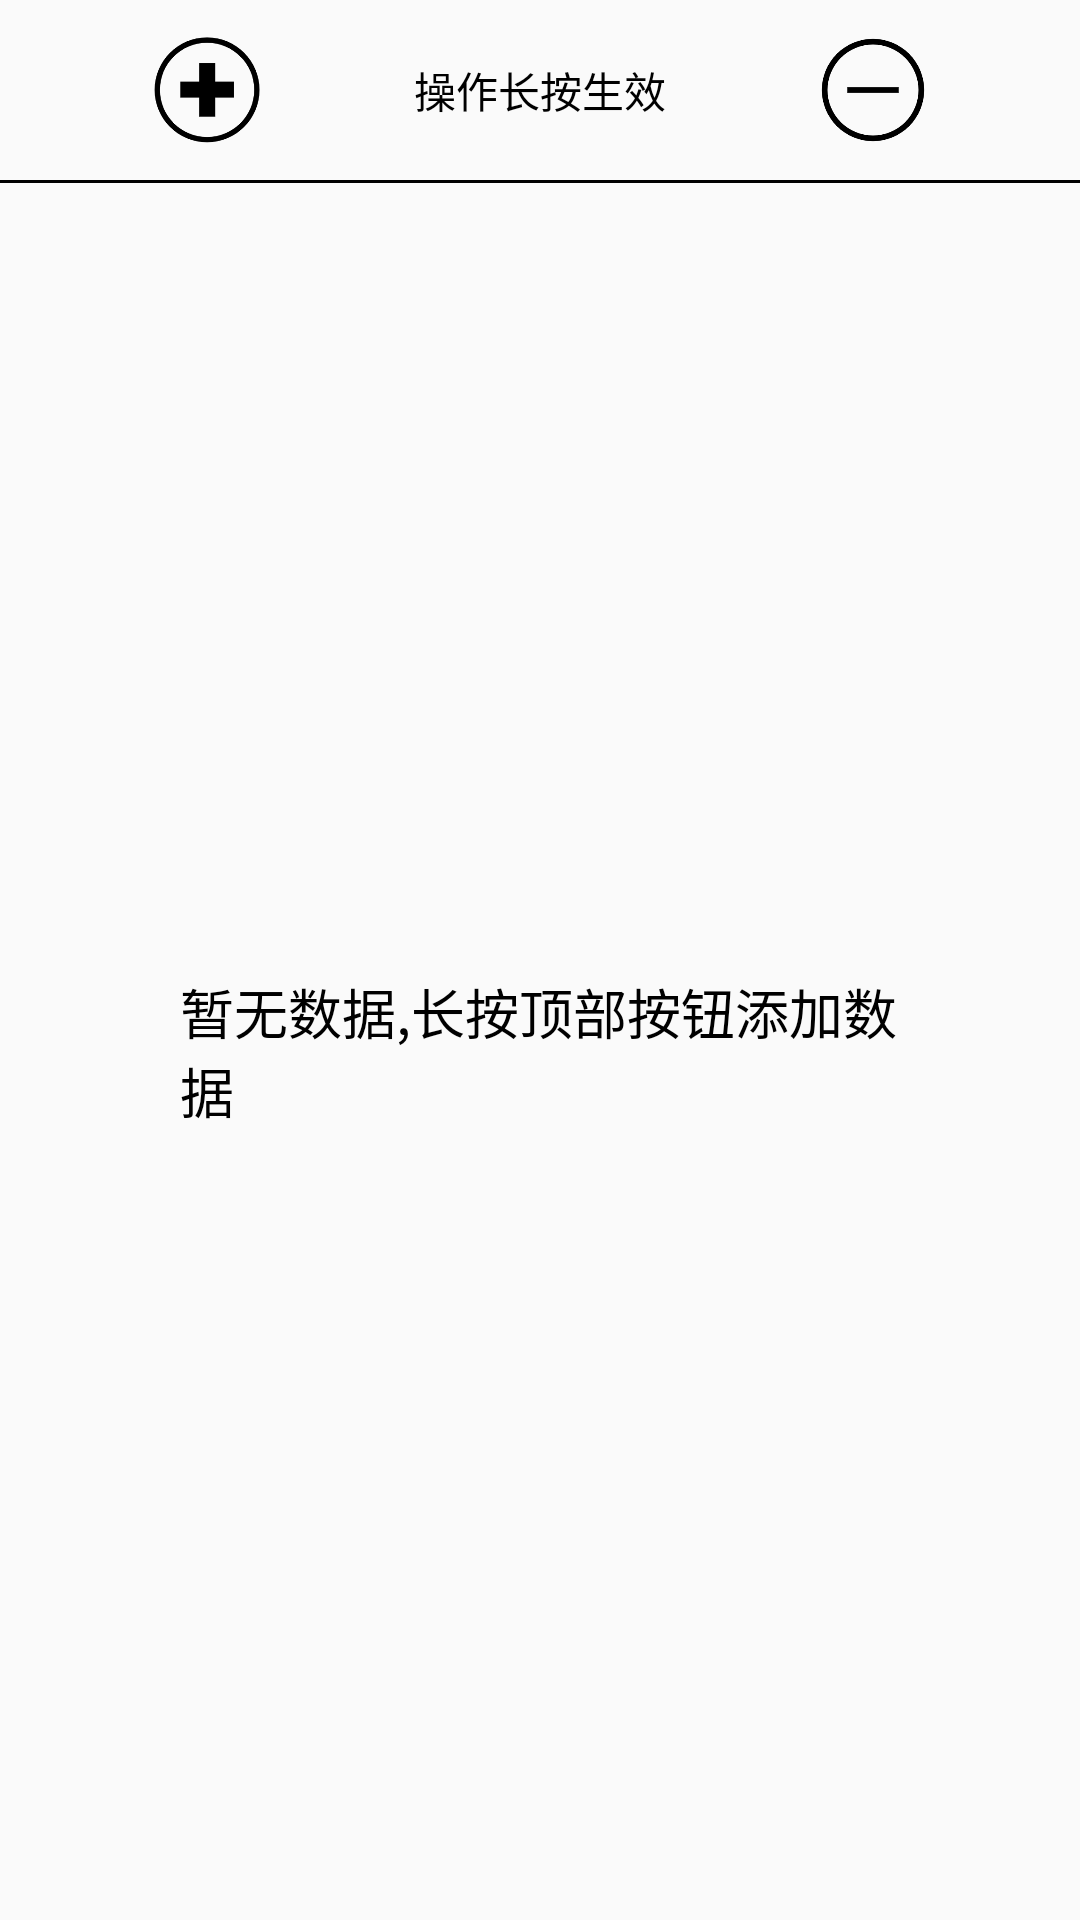

Icon bounding boxes for this 1080w x 1920h phone screenshot, format bbox(x1, y1, x2, y2):
add: bbox(154, 37, 260, 143)
delete: bbox(822, 39, 924, 141)
